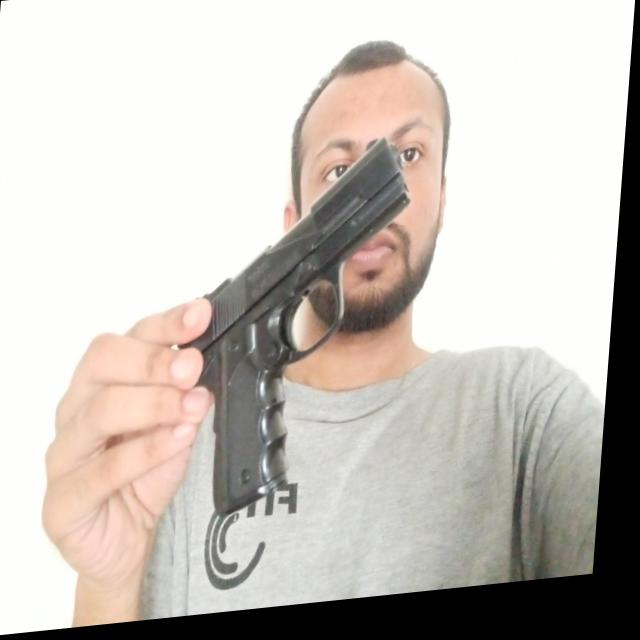handgun: (173, 139, 418, 529)
